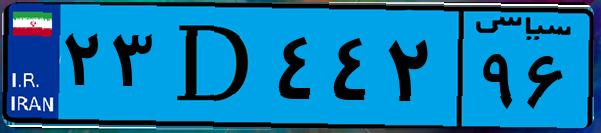2: (385, 28, 445, 110), (57, 26, 110, 100)
3: (110, 28, 158, 98)
4: (270, 28, 330, 110), (330, 28, 385, 110)
6: (525, 38, 570, 115)
9: (475, 38, 525, 113)
D: (158, 12, 270, 120)
